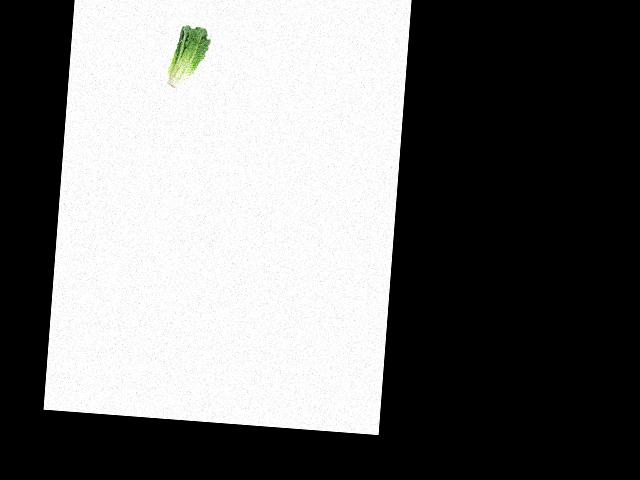lettuce: (164, 22, 210, 94)
